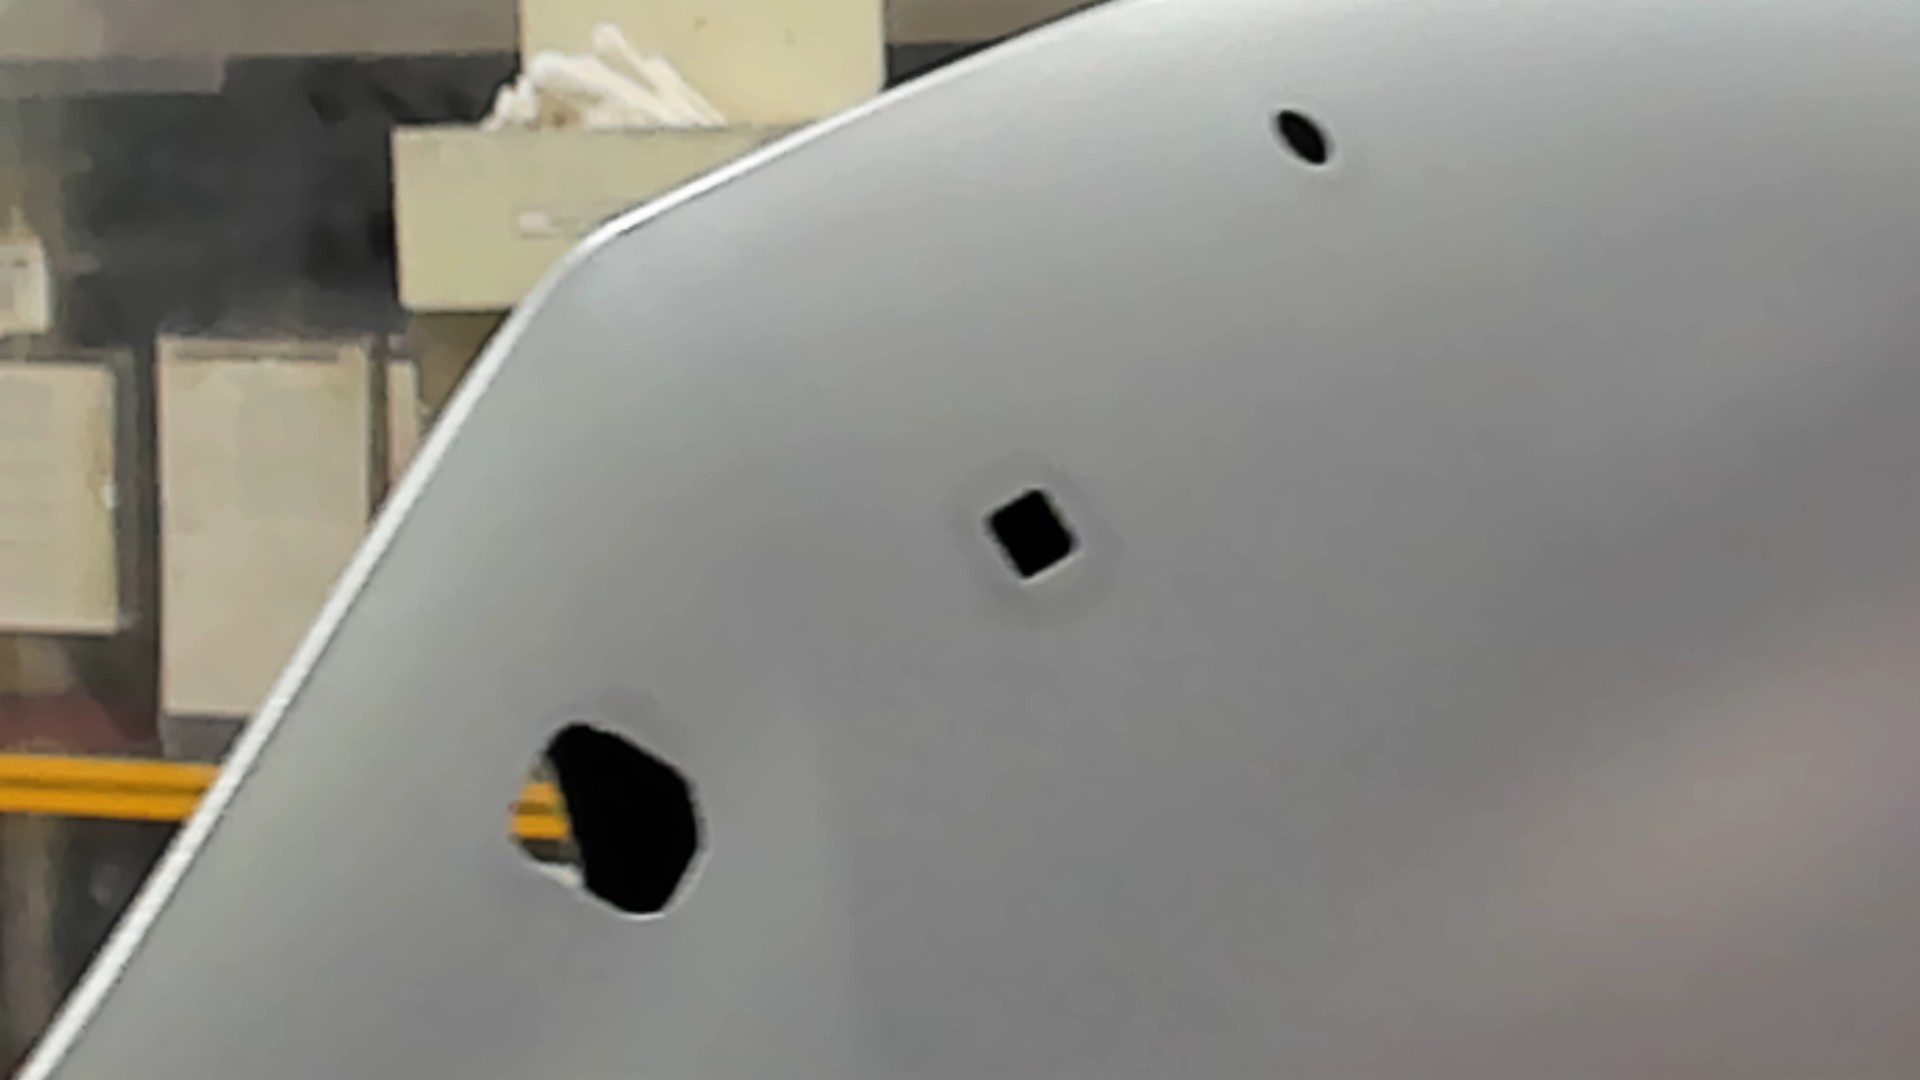capo: (1091, 170, 1920, 1080)
chico: (1269, 104, 1342, 171)
grande: (502, 717, 715, 931)
mediano: (975, 481, 1087, 591)
